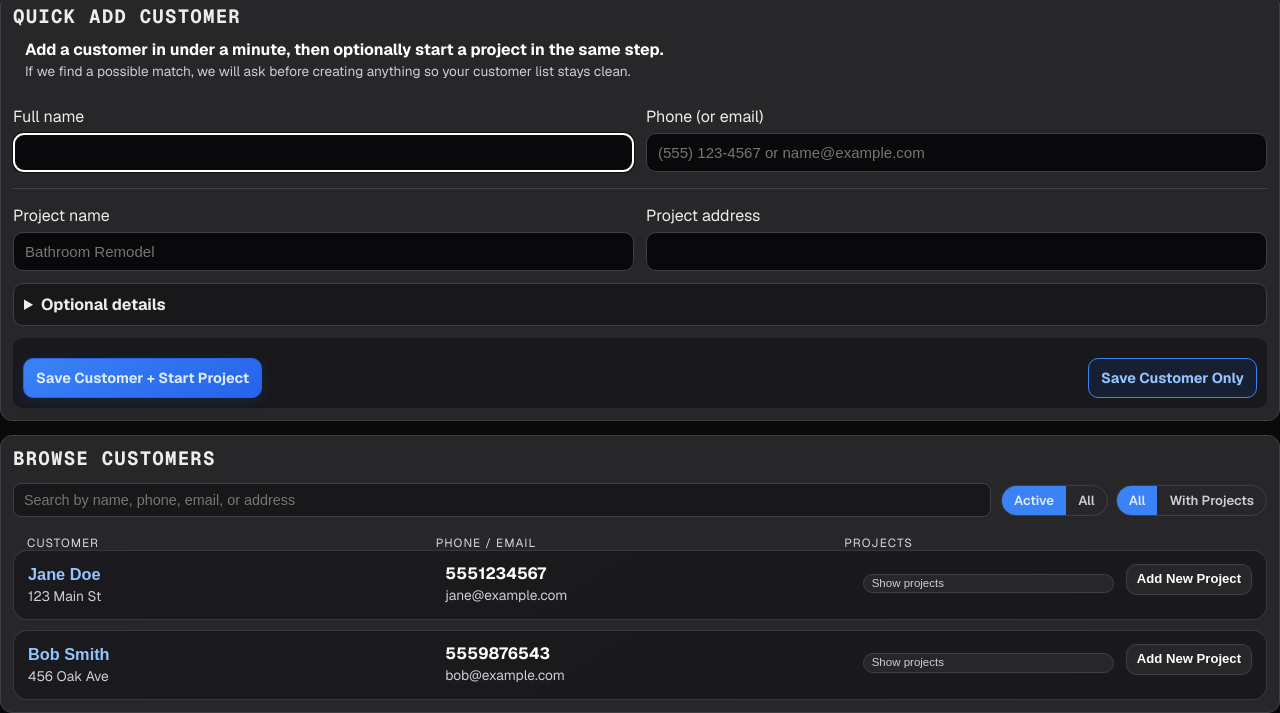
Test: CustomersConsole › filters customers by activity status (client-side)
Expected: the button "Jane Doe" is shown, [28,565,100,585]
Expected: the text "Archived Corp" is not shown
# Switch to "All" to see archived customers
Click the 1st button "All".
click(1086, 500)  # box [1066,486,1107,515]
(page scrolled)
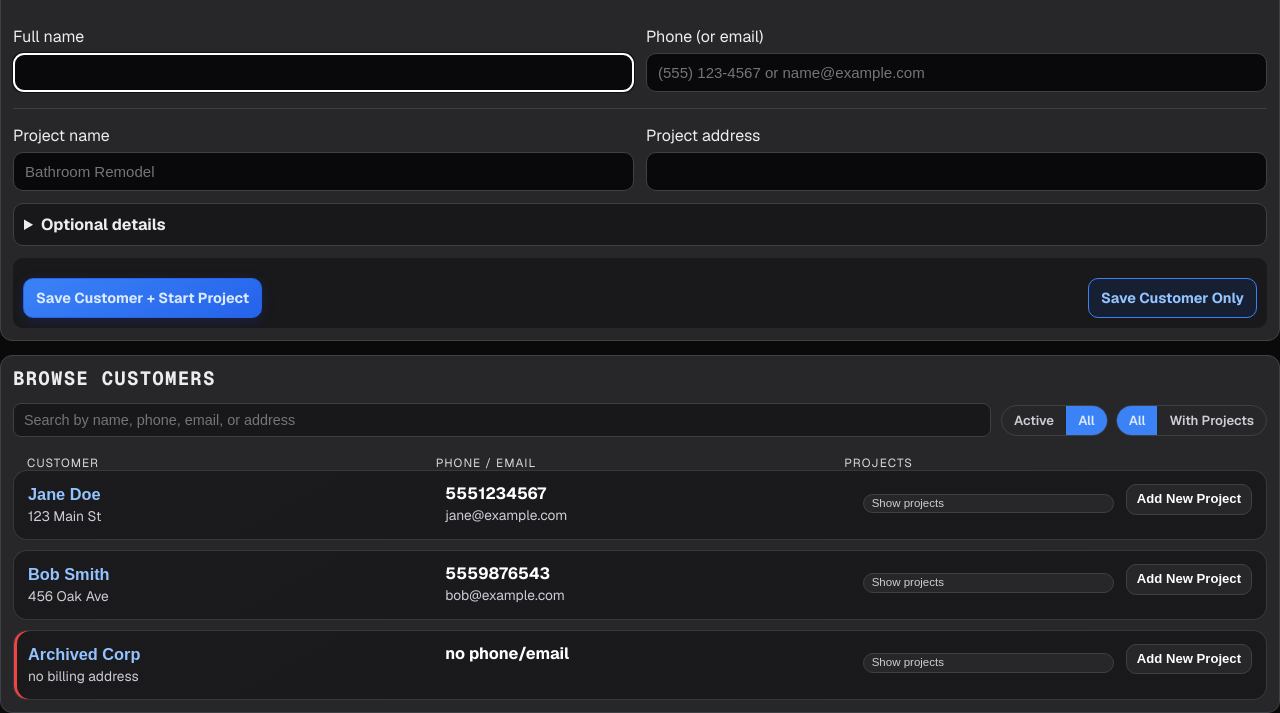
Expected: the button "Archived Corp" is shown, [28,645,140,665]
